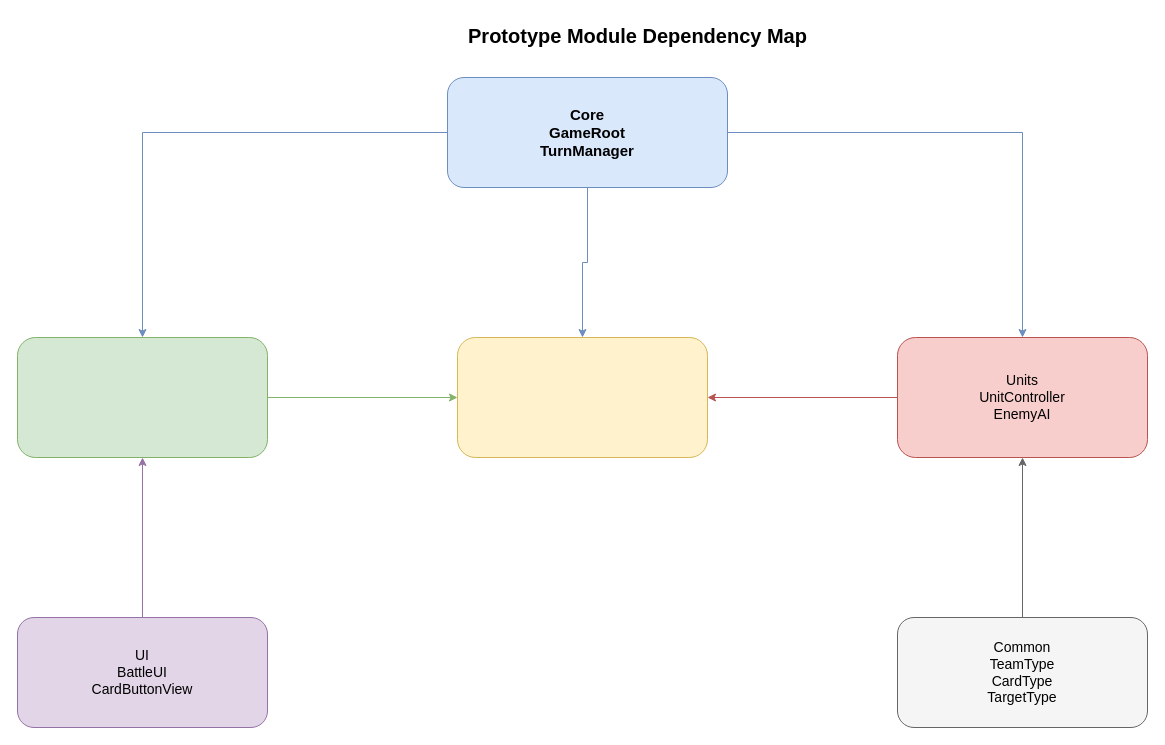
Some shapes in this 1165 by 745 pixel diagram are drawn without their labels. The shapes that lost their labels are listed below. From the top down, each one's centre as x and y in pixels, then its label:
At (x=142, y=397): "Cards DeckManager CardResolver CardData".
At (x=582, y=397): "Grid GridManager TileView".
